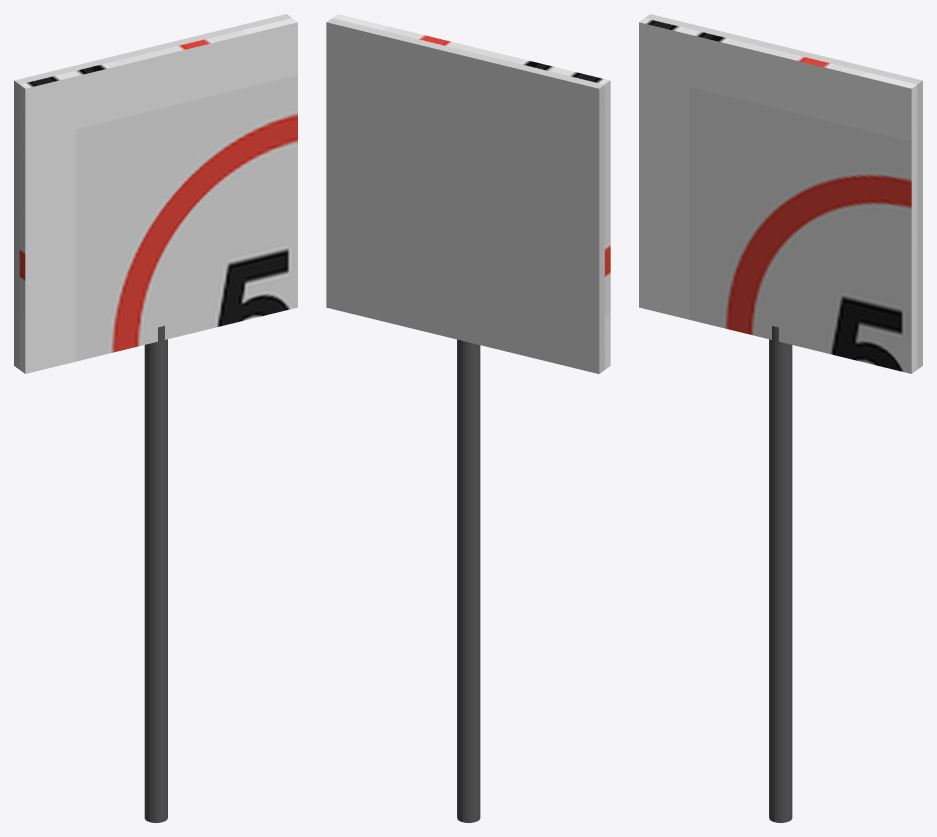
File: teknofest_sign_hiz_siniri_50.fbx
3 renders of one model, left to right at view 1: azimuth 30°, elevation 25°; view 2: azimuth 150°, elevation 25°; view 3: azimuth 330°, elevation 25°, orthographic.
Visible parts, largest first — view 1: teknofest_sign_hiz_siniri_50_board, teknofest_sign_hiz_siniri_50_pole, teknofest_sign_hiz_siniri_50_back; view 2: teknofest_sign_hiz_siniri_50_back, teknofest_sign_hiz_siniri_50_pole, teknofest_sign_hiz_siniri_50_board; view 3: teknofest_sign_hiz_siniri_50_board, teknofest_sign_hiz_siniri_50_pole, teknofest_sign_hiz_siniri_50_back.
Boxes of the visible parts, <box> form: teknofest_sign_hiz_siniri_50_board: <box>19,18,297,373</box>; teknofest_sign_hiz_siniri_50_pole: <box>144,325,167,822</box>; teknofest_sign_hiz_siniri_50_back: <box>14,14,291,369</box>; teknofest_sign_hiz_siniri_50_back: <box>326,18,604,373</box>; teknofest_sign_hiz_siniri_50_pole: <box>457,339,480,822</box>; teknofest_sign_hiz_siniri_50_board: <box>333,14,610,369</box>; teknofest_sign_hiz_siniri_50_board: <box>639,18,917,373</box>; teknofest_sign_hiz_siniri_50_pole: <box>769,325,792,822</box>; teknofest_sign_hiz_siniri_50_back: <box>645,14,922,369</box>.
Size of the model in its own units: 95 by 255 by 7.05.
Materials: 3 (1 with a texture image).
